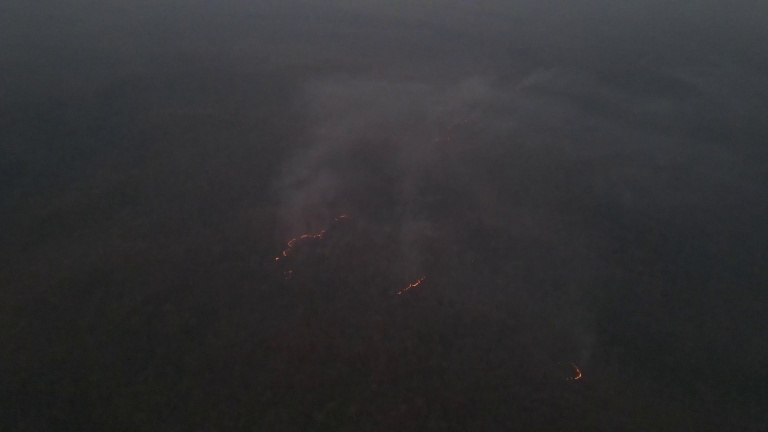fire: (274, 230, 328, 274), (394, 272, 428, 299), (326, 207, 352, 222), (570, 364, 587, 386)
smoke: (263, 69, 507, 269)
